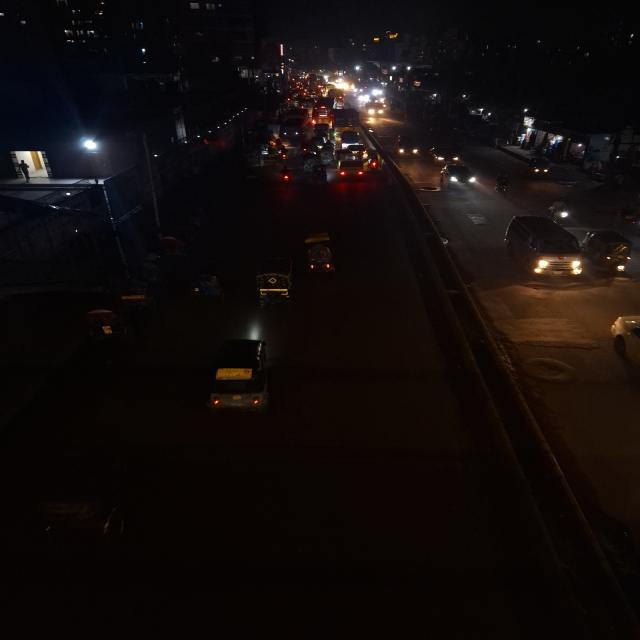bus: (311, 105, 332, 123)
car: (500, 214, 588, 280), (437, 160, 480, 190), (336, 151, 372, 184), (429, 143, 464, 165), (337, 128, 364, 150)
cng: (201, 334, 274, 421), (581, 227, 636, 278), (394, 132, 421, 160), (524, 154, 554, 178)
motorcycle: (546, 197, 574, 224), (493, 172, 514, 198), (278, 163, 295, 188), (276, 140, 291, 164)
rickshaw: (249, 254, 299, 310), (82, 306, 133, 348), (300, 231, 339, 281), (144, 234, 197, 268), (183, 267, 226, 305), (312, 122, 332, 142)
truck: (331, 108, 359, 132)
